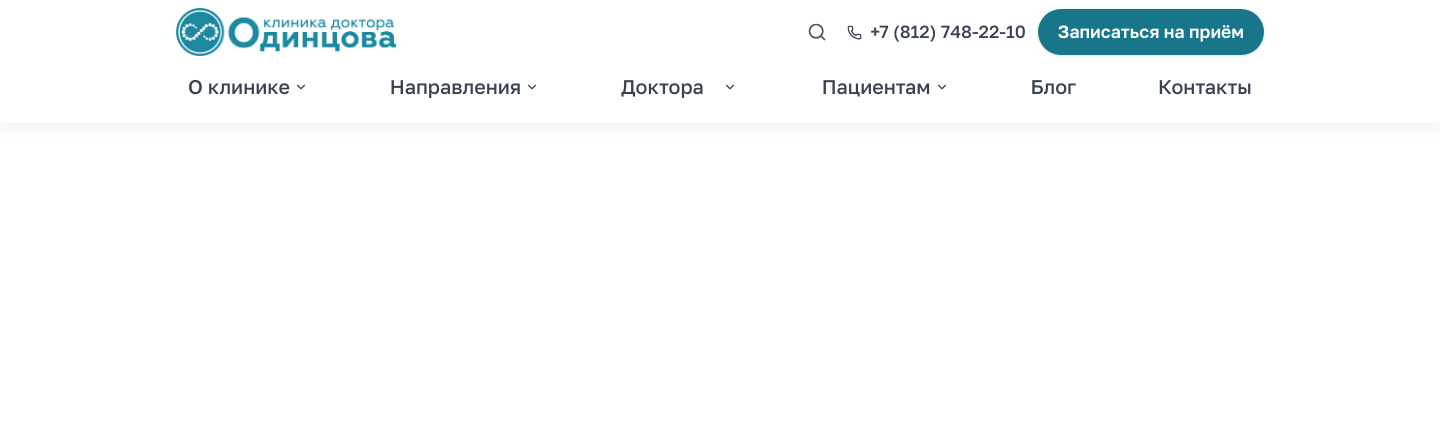
it: Header › opens О клинике dropdown showing about link
The image size is (1440, 421).
Focus the button "О клинике" at coordinates (248, 87), box x1=176 y1=64 x2=320 y2=111
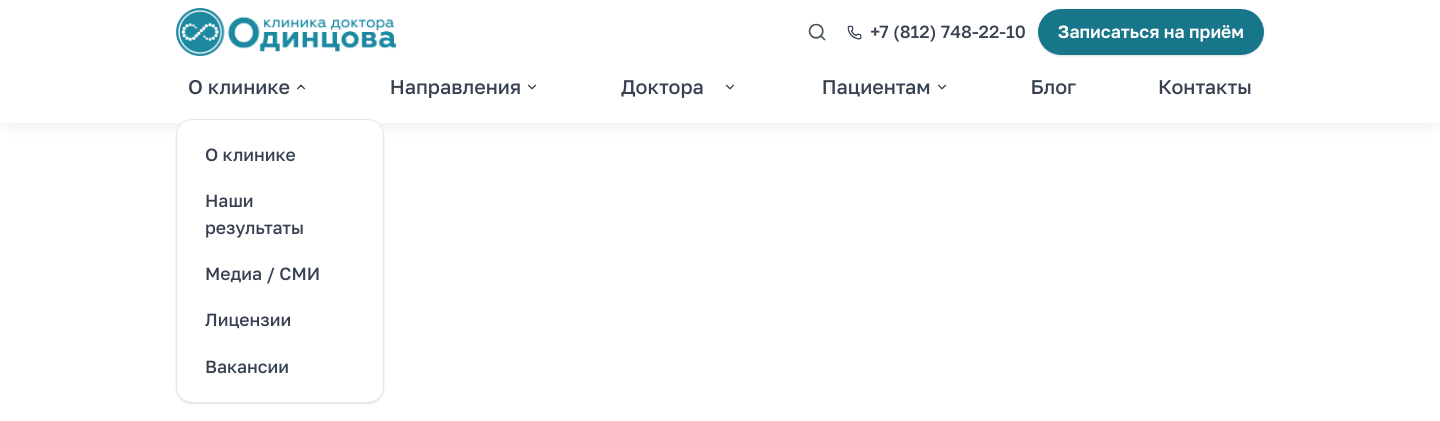
expect the menu item "О клинике" is shown: met, box x1=205 y1=144 x2=296 y2=165
